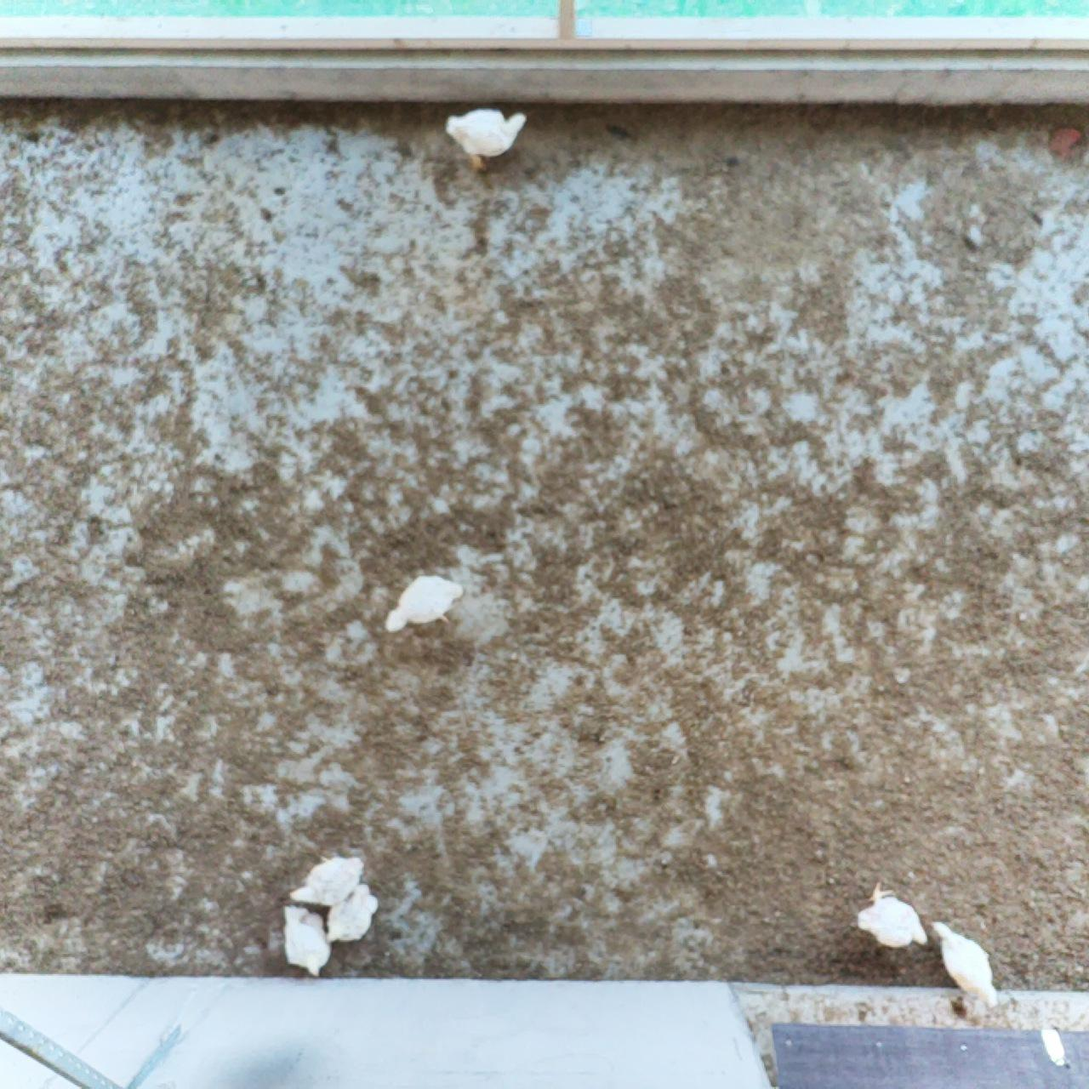chicken: (928, 918, 1005, 1010), (441, 105, 531, 174), (381, 570, 468, 638), (855, 878, 929, 953), (279, 900, 335, 979), (287, 852, 367, 907), (324, 881, 381, 946)
